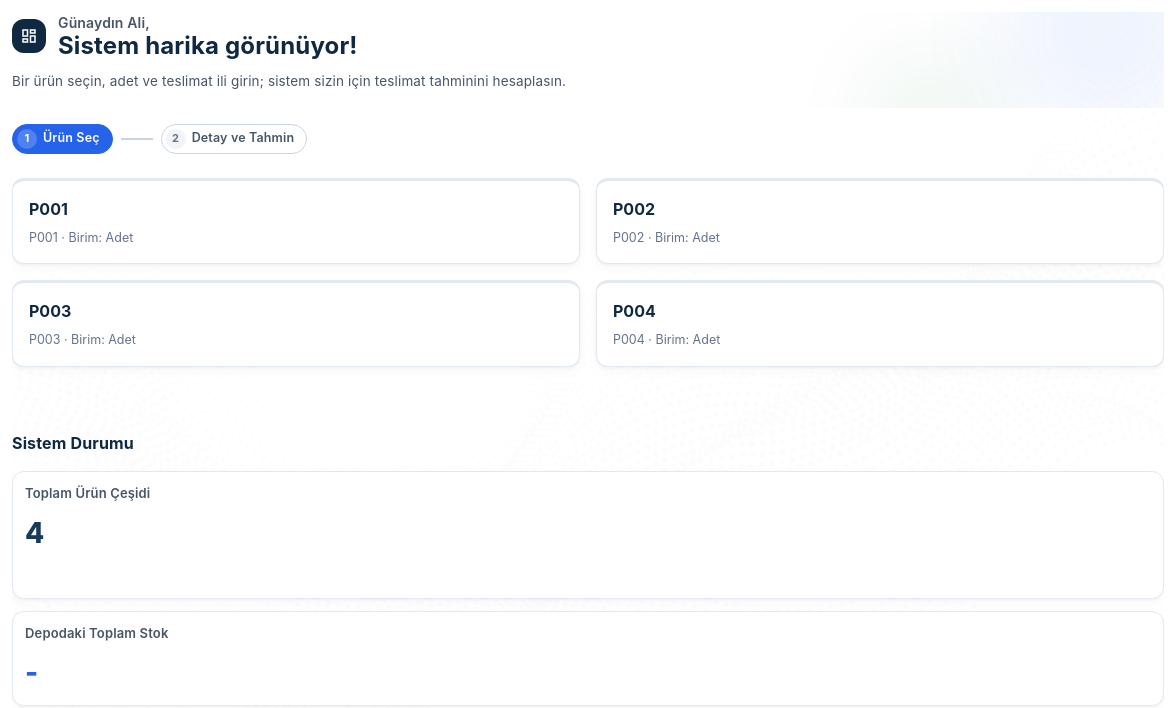
Scenario: Dashboard (product wizard) › reveals the quantity/location step only after a product card is selected
Step 1. Click the text "P001" → [48, 209], box x1=29 y1=197 x2=68 y2=221
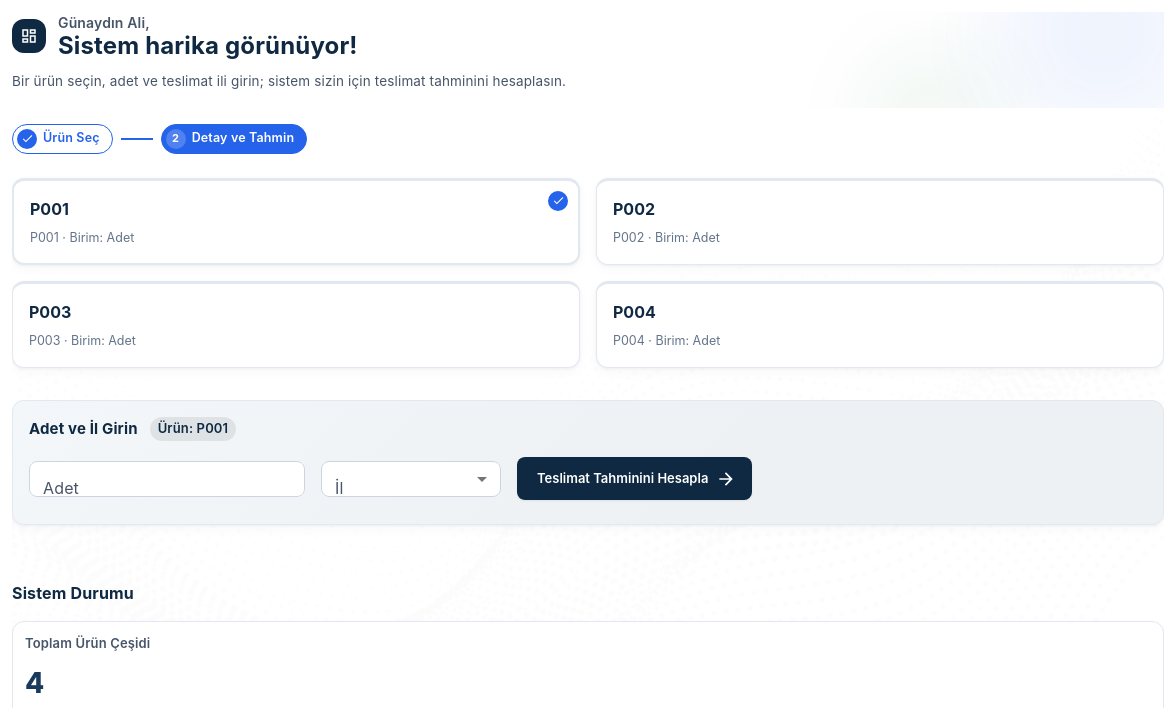
Expected: the number field labelled "Adet" is shown, x1=29 y1=450 x2=305 y2=506
Expected: the text "Ürün: P001" is shown, x1=158 y1=420 x2=228 y2=436
